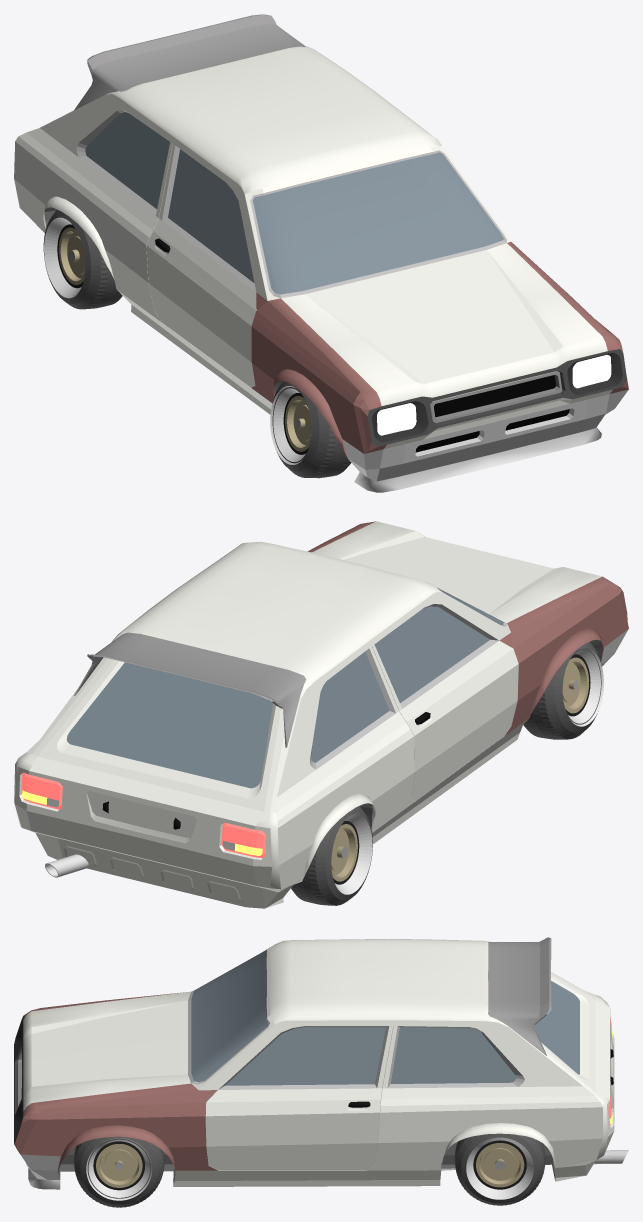
Rendered from toyota_starlet.glb.
The picture shows the model from 3 angles, top to bottom: view 1: azimuth 30°, elevation 25°; view 2: azimuth 150°, elevation 25°; view 3: azimuth 270°, elevation 25°; orthographic projection. The views are drawn at different scales.
Visible parts, largest first — view 1: Object_12, Object_13, Object_24, Object_22, Object_20, Object_15, Object_11, Object_5, Object_3, Object_16, Object_18, Object_2 (+2 smaller); view 2: Object_12, Object_13, Object_24, Object_20, Object_15, Object_16, Object_18, Object_11, Object_6, Object_9; view 3: Object_12, Object_13, Object_24, Object_20, Object_14, Object_18, Object_11, Object_16, Object_21, Object_22, Object_17, Object_5 (+1 smaller).
Boxes of the visible parts, box(x1,y1,x2,y2) form: Object_12: box(14, 46, 612, 448); Object_13: box(85, 112, 503, 294); Object_24: box(251, 242, 628, 460); Object_22: box(342, 389, 628, 492); Object_20: box(74, 14, 305, 110); Object_15: box(43, 209, 351, 478); Object_11: box(76, 109, 506, 298); Object_5: box(367, 349, 626, 446); Object_3: box(415, 375, 569, 452); Object_16: box(44, 217, 305, 464); Object_18: box(58, 227, 311, 451); Object_2: box(377, 355, 611, 435); Object_12: box(14, 521, 602, 908); Object_13: box(66, 587, 503, 788); Object_24: box(307, 521, 628, 735); Object_20: box(74, 632, 306, 747); Object_15: box(291, 642, 601, 905); Object_16: box(335, 647, 603, 894); Object_18: box(331, 657, 588, 881); Object_11: box(310, 597, 506, 769); Object_6: box(21, 772, 266, 858); Object_9: box(45, 854, 88, 877); Object_12: box(23, 938, 614, 1186); Object_13: box(191, 950, 579, 1085); Object_24: box(14, 992, 217, 1171); Object_20: box(488, 937, 551, 1055); Object_14: box(73, 1133, 545, 1207); Object_18: box(96, 1143, 524, 1187); Object_11: box(188, 949, 524, 1089); Object_16: box(86, 1137, 533, 1200); Object_21: box(17, 1049, 555, 1186); Object_22: box(21, 1154, 60, 1189); Object_17: box(93, 1140, 526, 1190); Object_5: box(14, 1016, 23, 1143).
Bounding box in the file's own units: 1.77 × 1.25 × 3.78.
